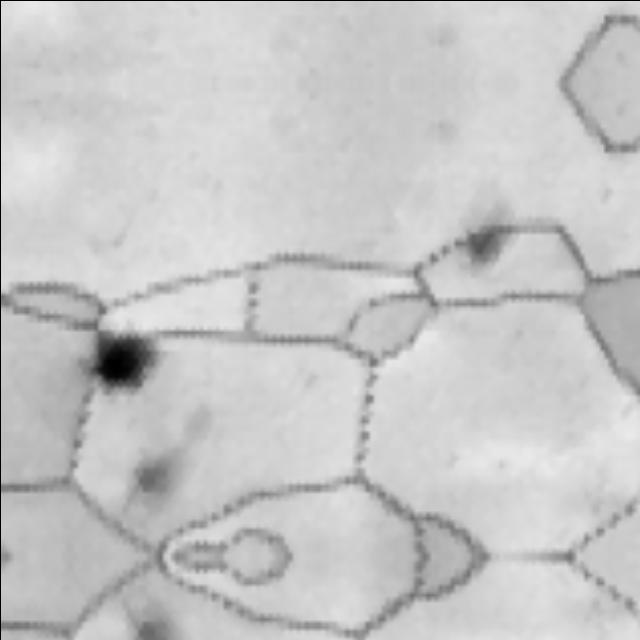good_void: (119, 406, 225, 520), (77, 322, 168, 405), (119, 594, 207, 640), (453, 227, 512, 274)
